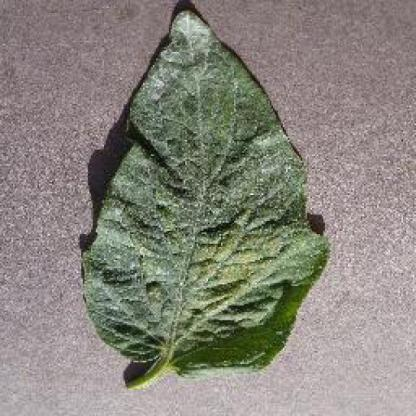Tomato_Spider_Mites: (82, 11, 329, 362)
